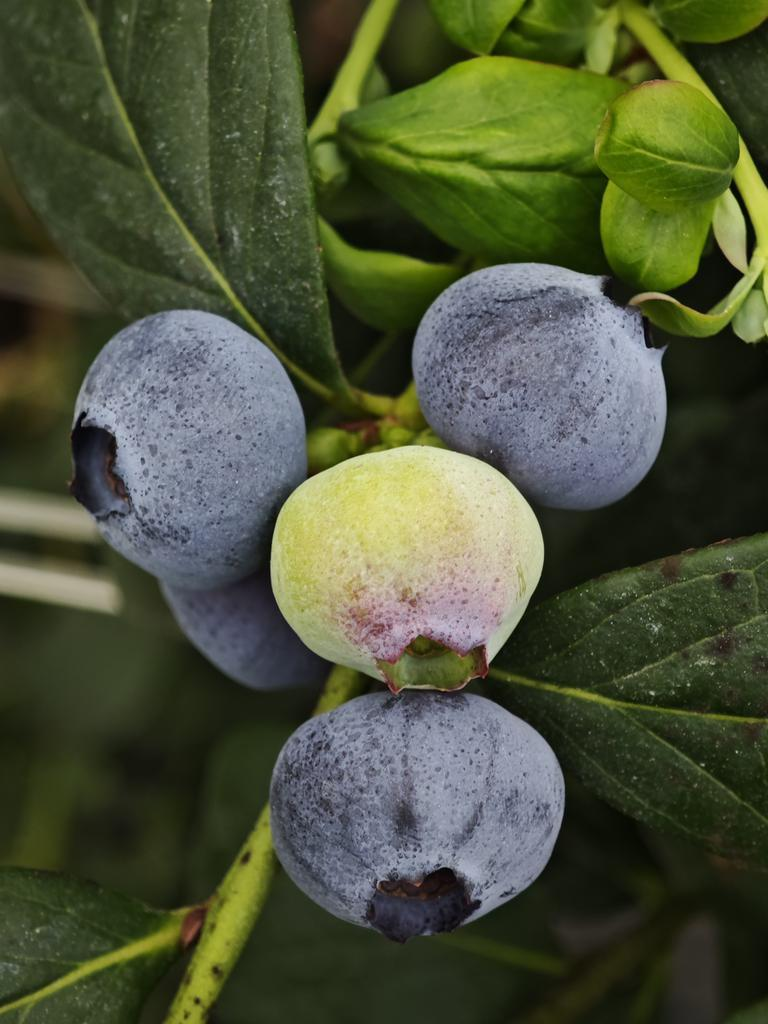RipeBlueBerry: (61, 301, 310, 583), (269, 693, 566, 921), (416, 266, 673, 504)
Semi-RipeBlueBerry: (269, 446, 539, 689)
